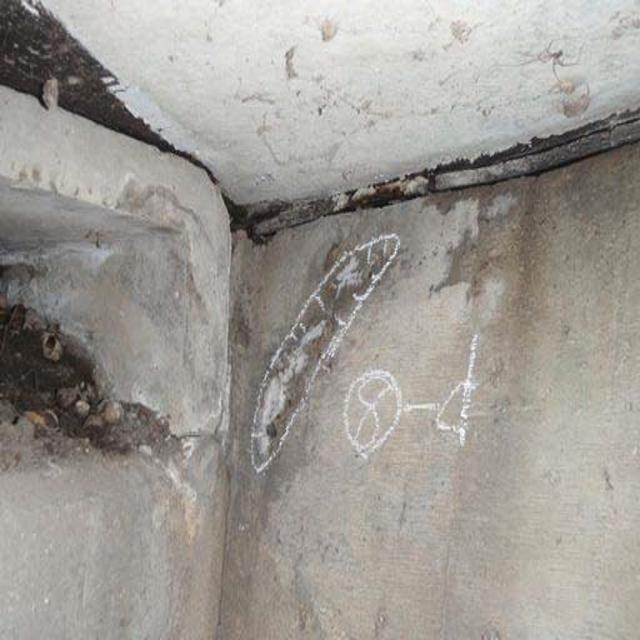spalling: (217, 224, 417, 477), (12, 278, 205, 506)
